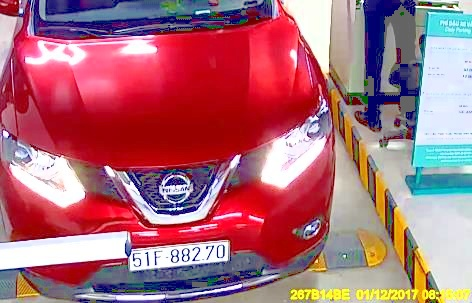plate: (125, 240, 234, 268)
